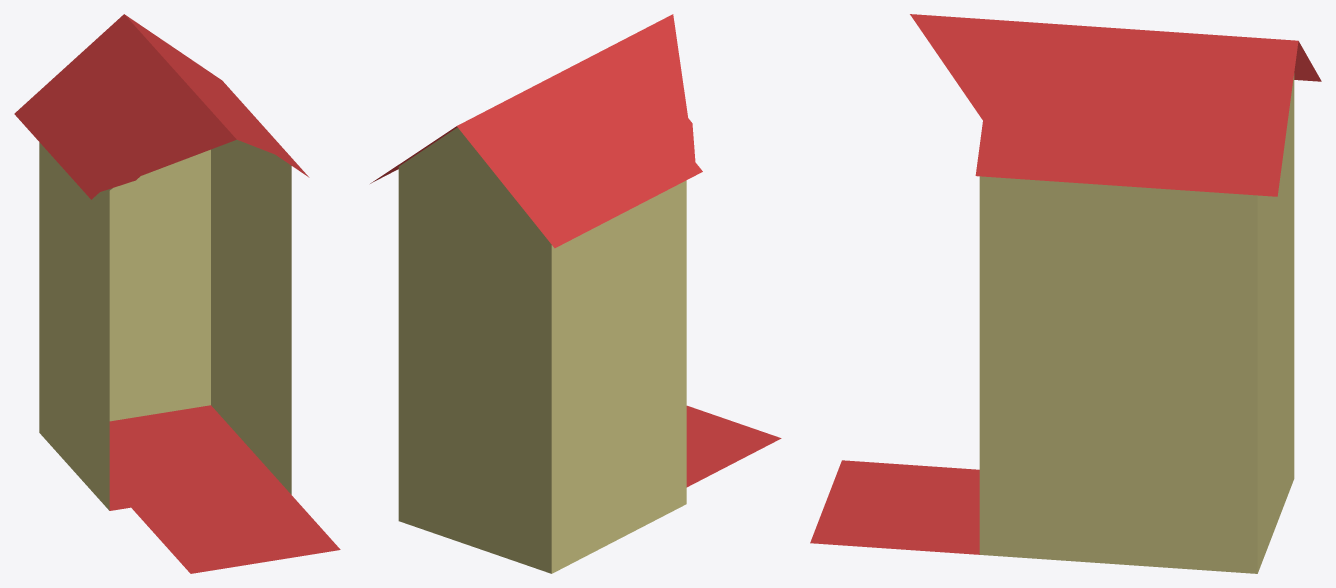
3 renders of one model, left to right at view 1: azimuth 30°, elevation 25°; view 2: azimuth 150°, elevation 25°; view 3: azimuth 270°, elevation 25°, orthographic. The views are drawn at different scales.
Size of the model in its own units: 6.52 by 10.58 by 11.19.
